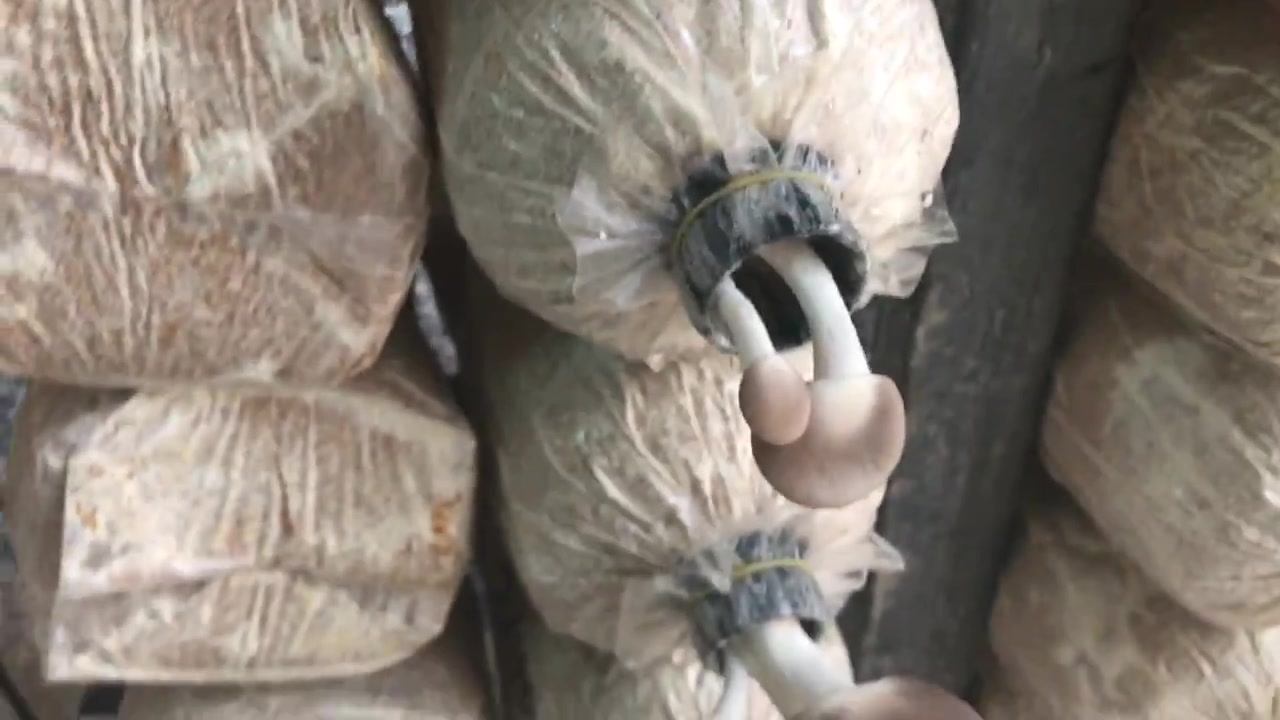nam: (677, 178, 903, 510), (685, 555, 969, 720)
